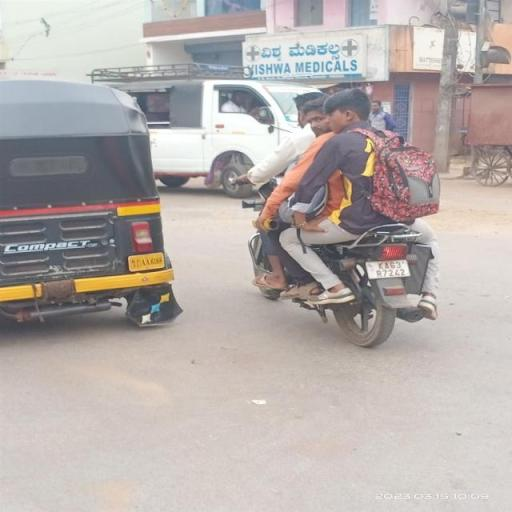tripple riding: (234, 87, 449, 220)
